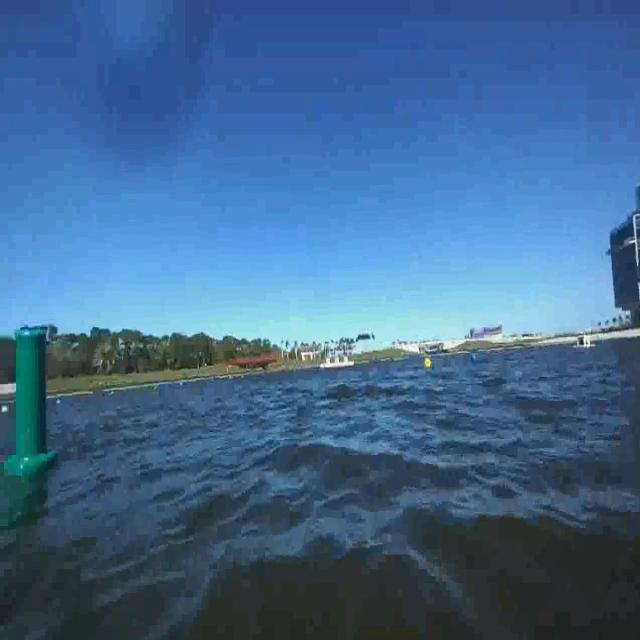green-column-buoy: (1, 330, 55, 477)
yellow-buoy: (424, 356, 432, 370)
